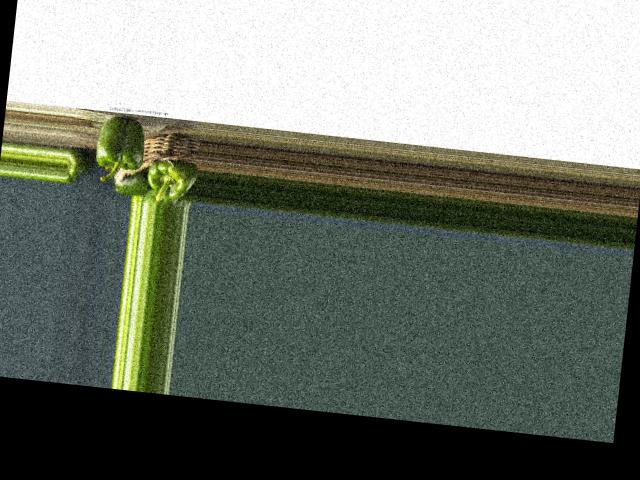bell_pepper: (64, 152, 86, 183)
